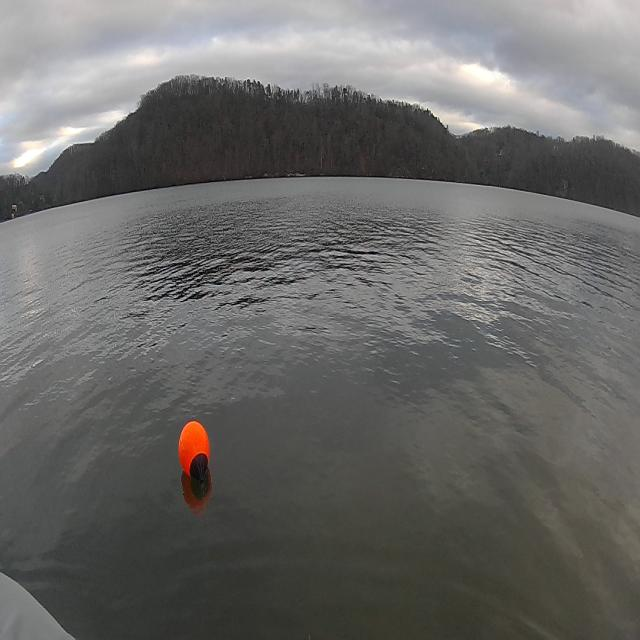Buoy: (176, 414, 217, 502)
